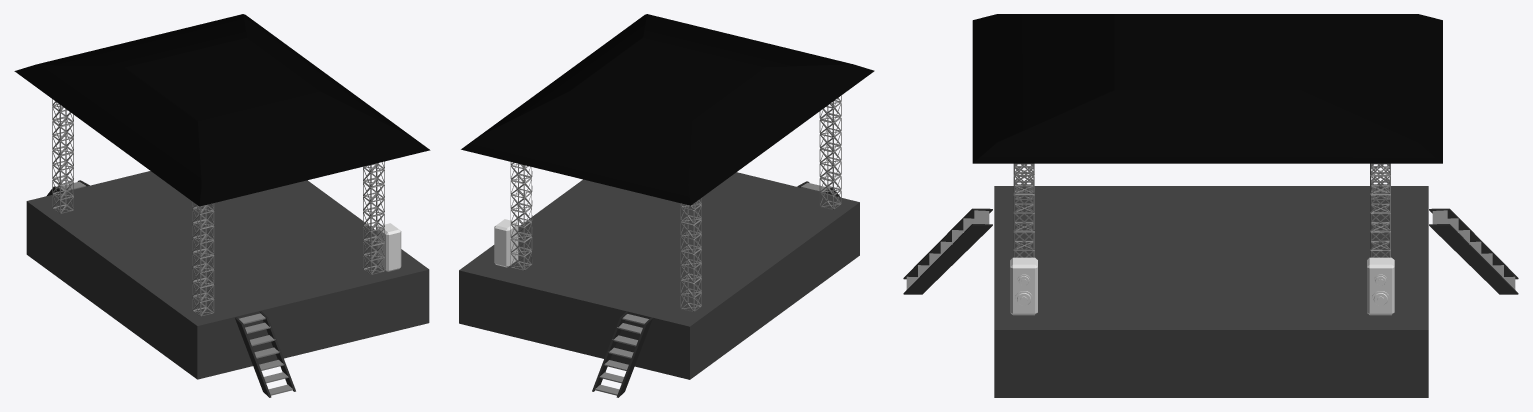
Rendered from stage-light.fbx.
3 views of the same model, side by side, from view 1: azimuth 30°, elevation 25°; view 2: azimuth 150°, elevation 25°; view 3: azimuth 270°, elevation 25° (orthographic). The views are drawn at different scales.
Visible parts, largest first — view 1: Cylinder.003; view 2: Cylinder.003; view 3: Cylinder.003.
Part boxes in pixels (<box>): Cylinder.003: <box>14,14,430,397</box>; Cylinder.003: <box>459,14,874,397</box>; Cylinder.003: <box>903,14,1518,397</box>.
Size of the model in its own units: 3029 by 2588 by 5323.
